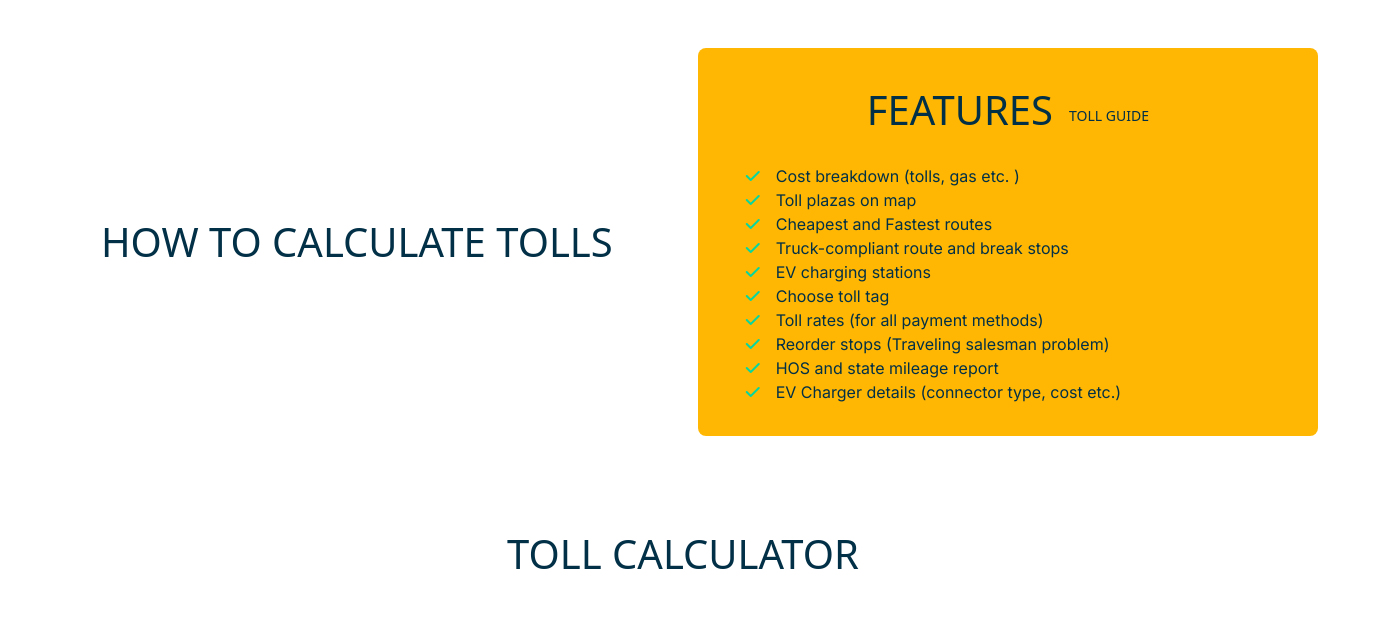
Test: Switch Between Features And Guide › Switch from Features to Guide
Click the button "toll guide" at (1109, 106), box 1069,80 -> 1149,132
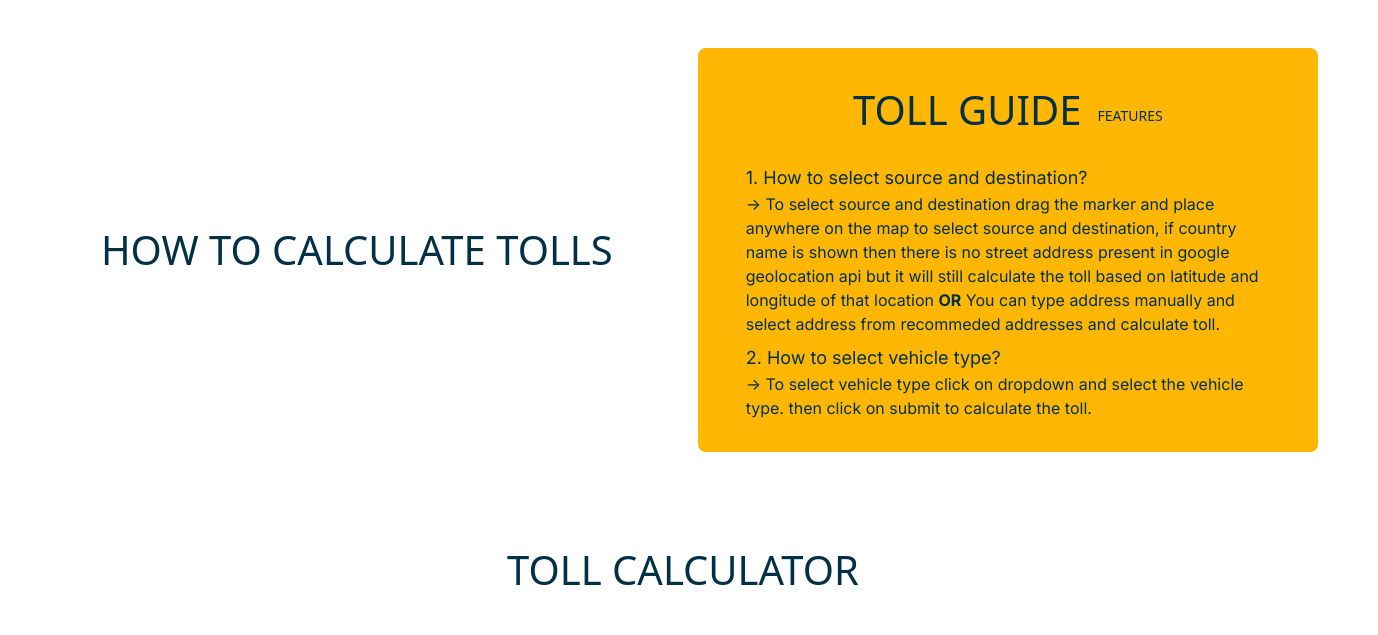
Now the element with id "guide" is shown, box 698,48 -> 1318,452
